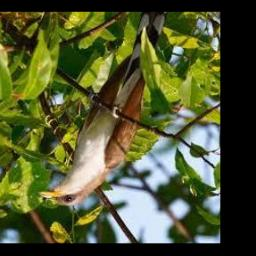Cuckoo: (39, 12, 169, 206)
